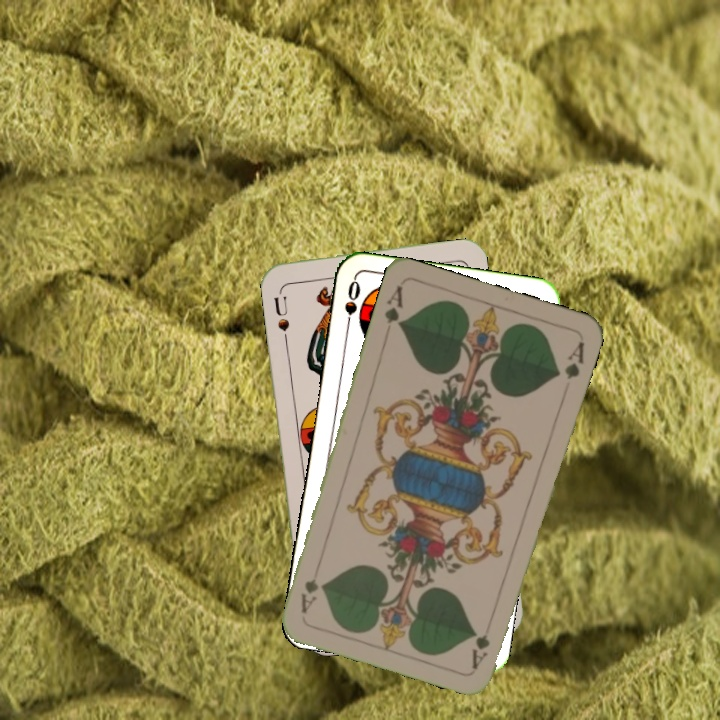GA: (380, 281, 406, 331), (467, 630, 493, 671)
SO: (340, 276, 364, 335)
SU: (270, 292, 292, 334)
